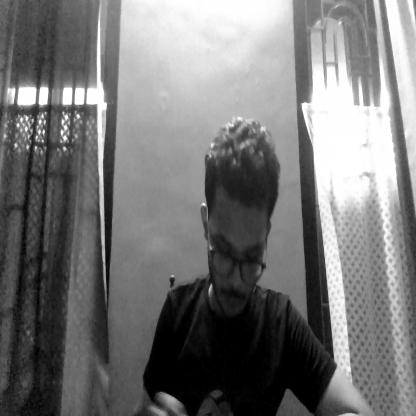Normal: (206, 121, 272, 323)
